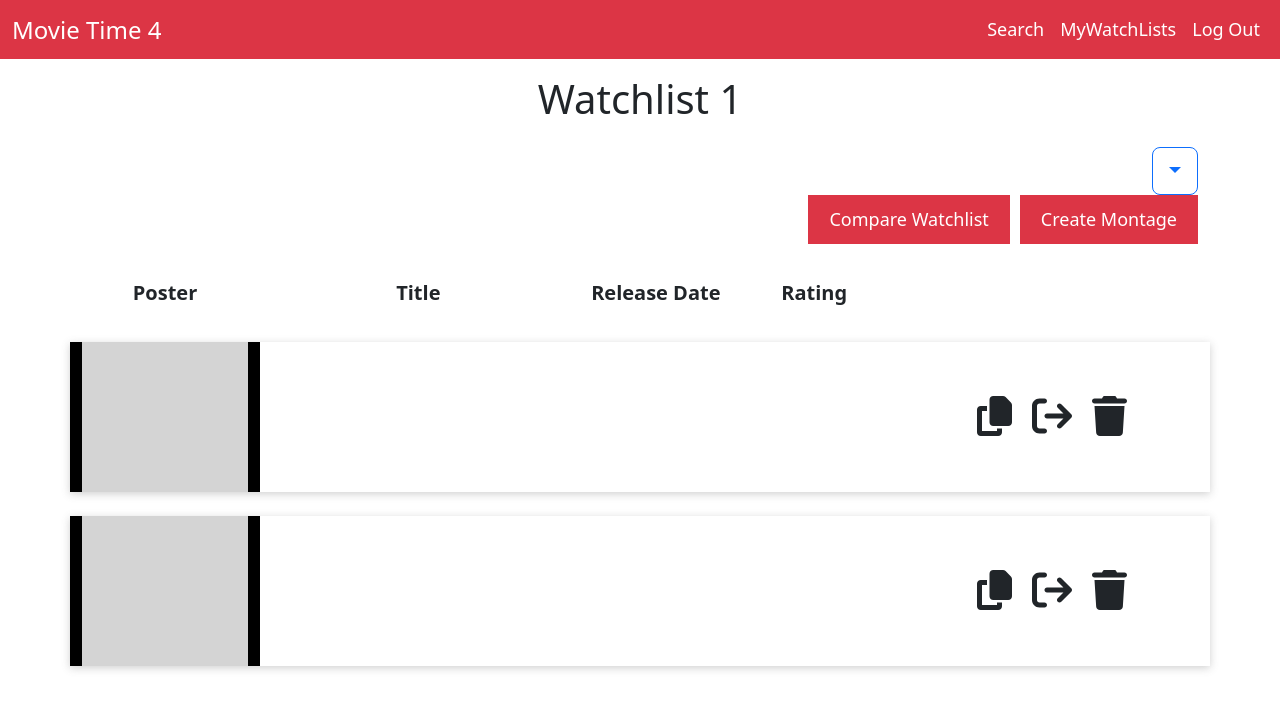
Test: WatchlistDetail page › handleClose when closing the EditMovieModal
Step 1. Click the 1st picture with test id "delete-icon" → (1109, 416), box left=1082, top=396, right=1137, bottom=436
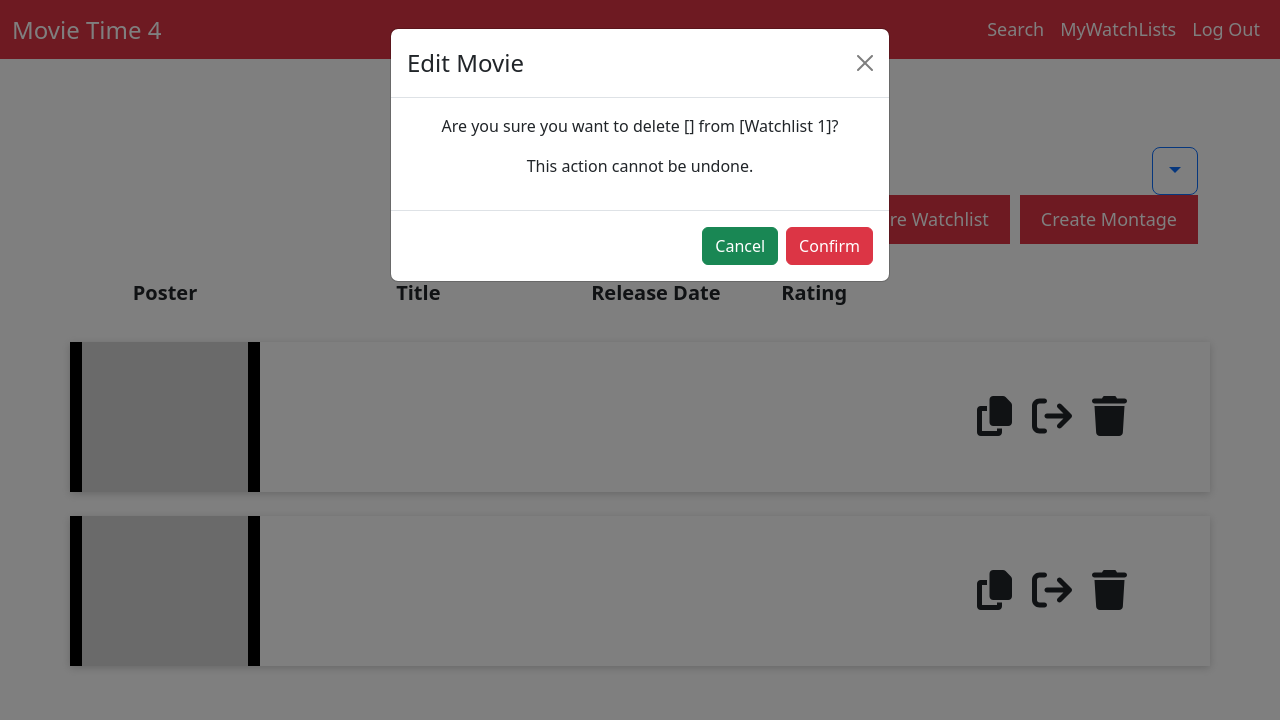
Step 2. Click the button with test id "editMovieClose" → (740, 246), box left=702, top=227, right=778, bottom=265
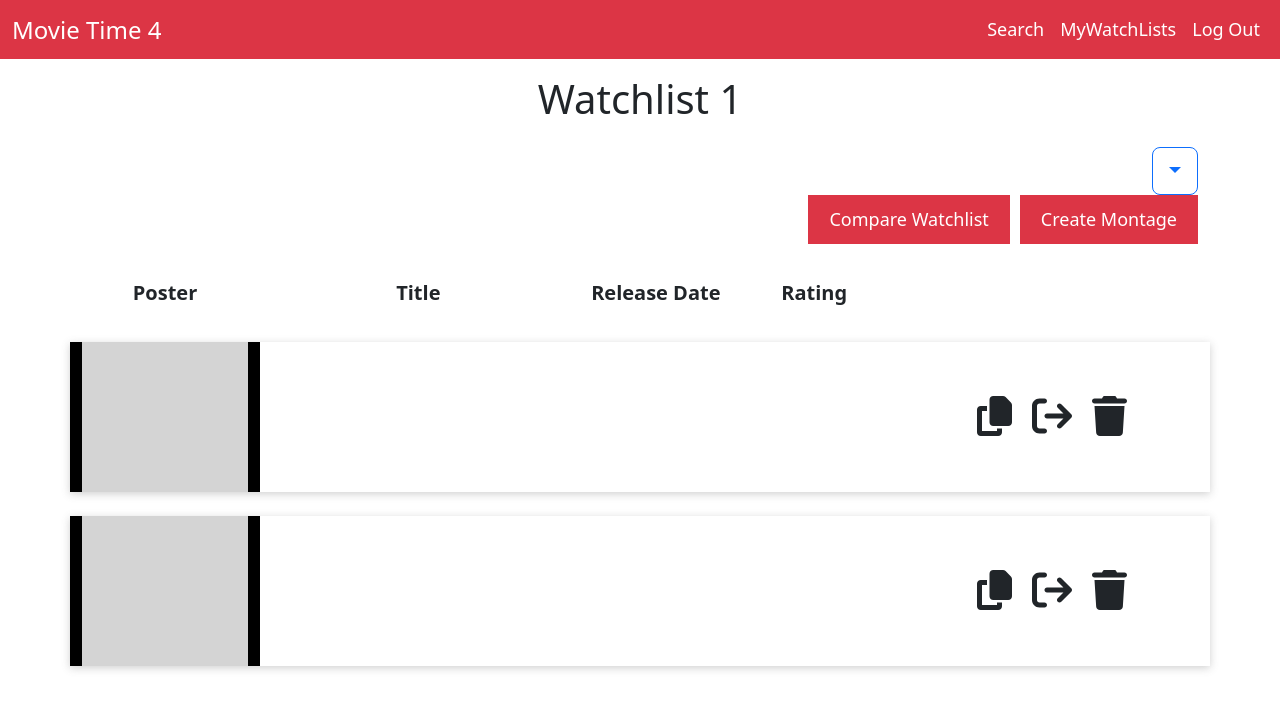
Expected: the text "Edit Movie" is gone
